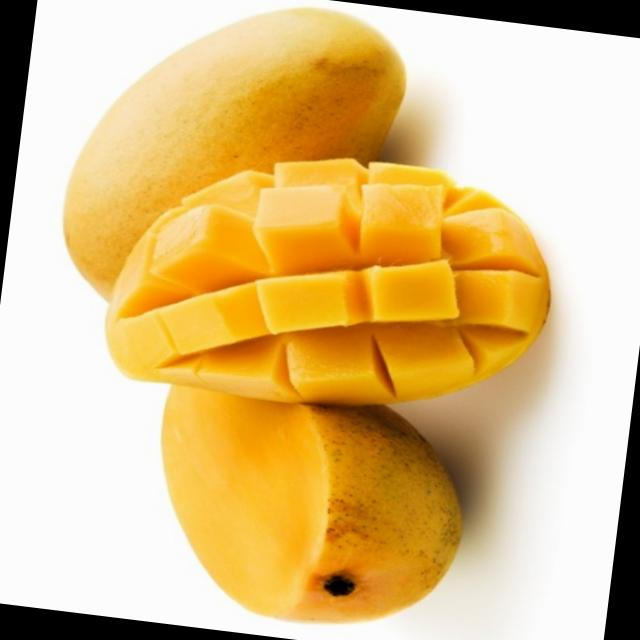mango: (43, 0, 413, 322)
